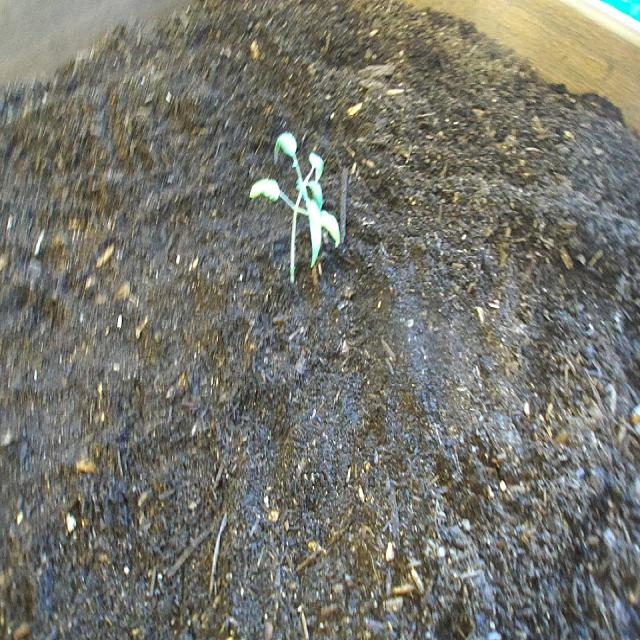Healthy: (247, 125, 346, 292)
